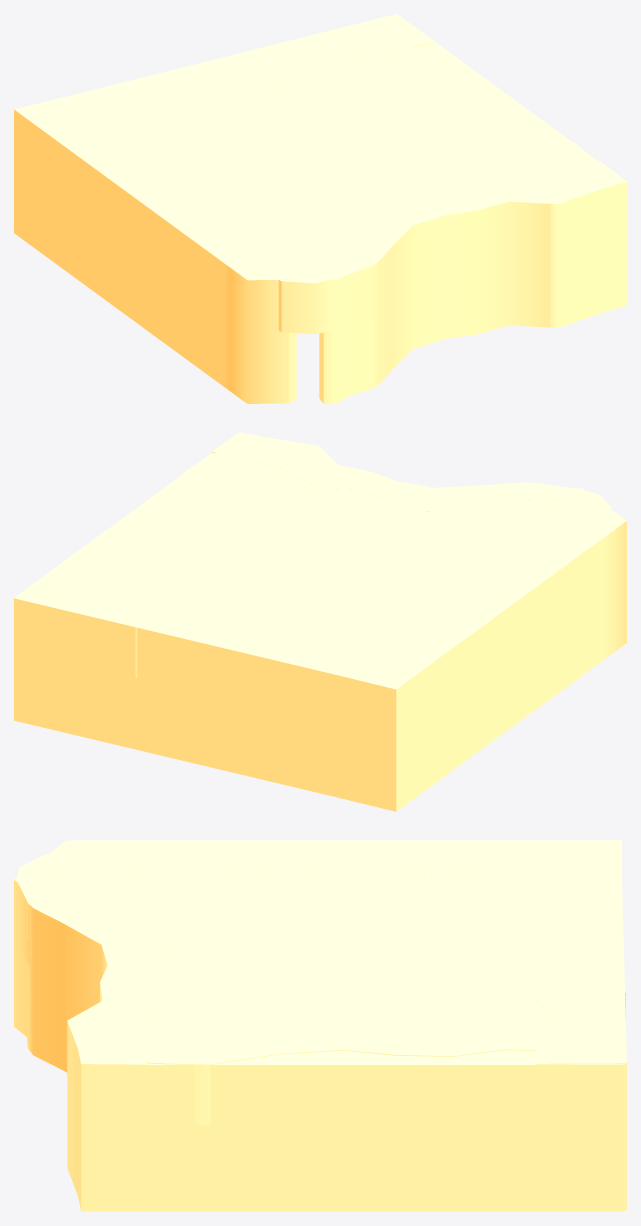
Rendered from Mesh_Collider_Cave.fbx.
The picture shows the model from 3 angles, top to bottom: view 1: azimuth 30°, elevation 25°; view 2: azimuth 150°, elevation 25°; view 3: azimuth 270°, elevation 25°; orthographic projection. The views are drawn at different scales.
Parts seen in each view (by area): view 1: Ceiling, Outer_Wall_3, Outer_Wall_2, Outer_Wall_4, Inner_Wall_1, Outer_Wall_1; view 2: Outer_Wall_4, Outer_Wall_3, Ceiling, Outer_Wall_2, Inner_Wall_1, Outer_Wall_1; view 3: Outer_Wall_1, Ceiling, Outer_Wall_2, Outer_Wall_4, Outer_Wall_3, Inner_Wall_1.
Part boxes in pixels (x1,y1,x2,y2): Ceiling: (113,44,595,334); Outer_Wall_3: (14,93,296,403); Outer_Wall_2: (319,161,626,403); Outer_Wall_4: (45,14,434,146); Inner_Wall_1: (329,130,472,184); Outer_Wall_1: (399,15,598,162); Outer_Wall_4: (14,570,439,796); Outer_Wall_3: (331,505,626,811); Ceiling: (74,453,611,677); Outer_Wall_2: (211,432,588,511); Inner_Wall_1: (254,495,381,548); Outer_Wall_1: (14,452,214,597); Outer_Wall_1: (82,1050,623,1211); Ceiling: (18,854,625,1124); Outer_Wall_2: (14,873,175,1211); Outer_Wall_4: (496,845,626,1210); Outer_Wall_3: (43,840,621,880); Inner_Wall_1: (206,940,350,1010).
Size of the model in its own units: 2803 by 860 by 3235.
